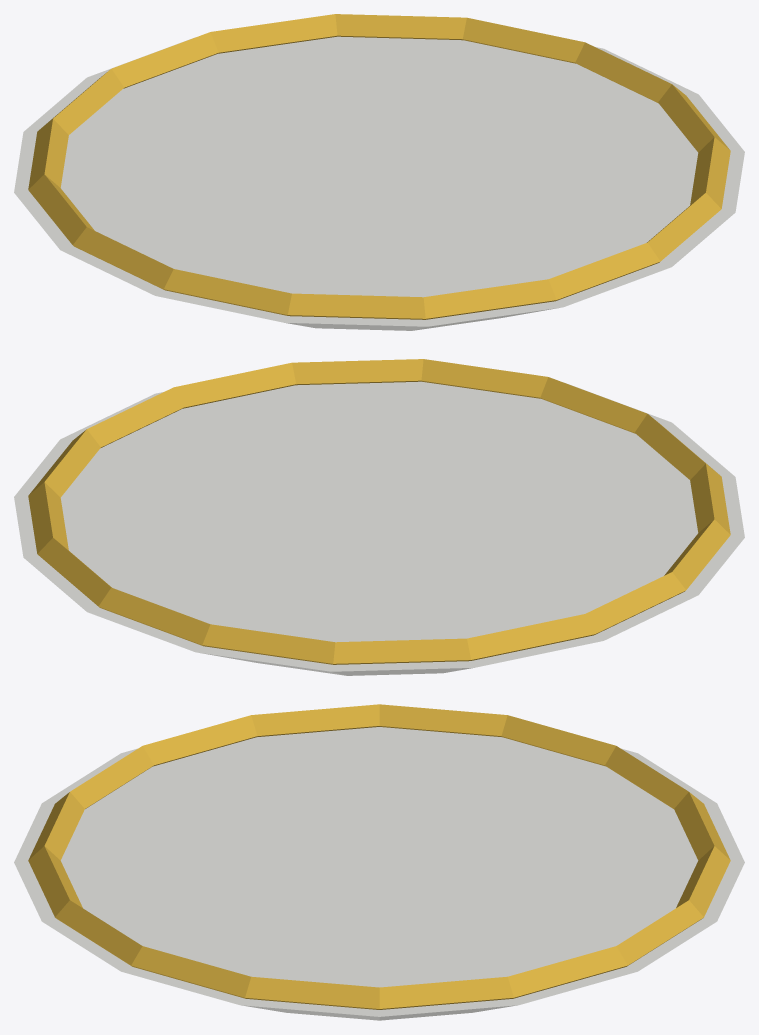
File: kitchen_plate.glb
3 renders of one model, top to bottom at view 1: azimuth 30°, elevation 25°; view 2: azimuth 150°, elevation 25°; view 3: azimuth 270°, elevation 25°, orthographic.
Visible parts, largest first — view 1: plate_plate_white, rim_plate_gold; view 2: plate_plate_white, rim_plate_gold; view 3: plate_plate_white, rim_plate_gold.
Part boxes in pixels (x1,y1,x2,y2): plate_plate_white: (14, 36, 744, 330); rim_plate_gold: (28, 14, 730, 319); plate_plate_white: (14, 381, 744, 675); rim_plate_gold: (28, 359, 730, 664); plate_plate_white: (14, 727, 744, 1020); rim_plate_gold: (28, 704, 730, 1009).
Bounding box in the file's own units: 0.36 × 0.039 × 0.36.
